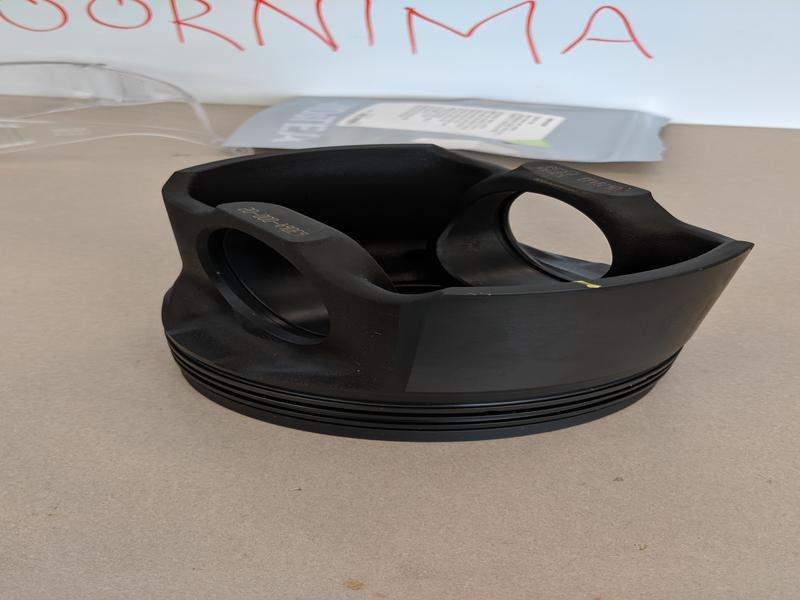piston: (154, 139, 757, 447)
